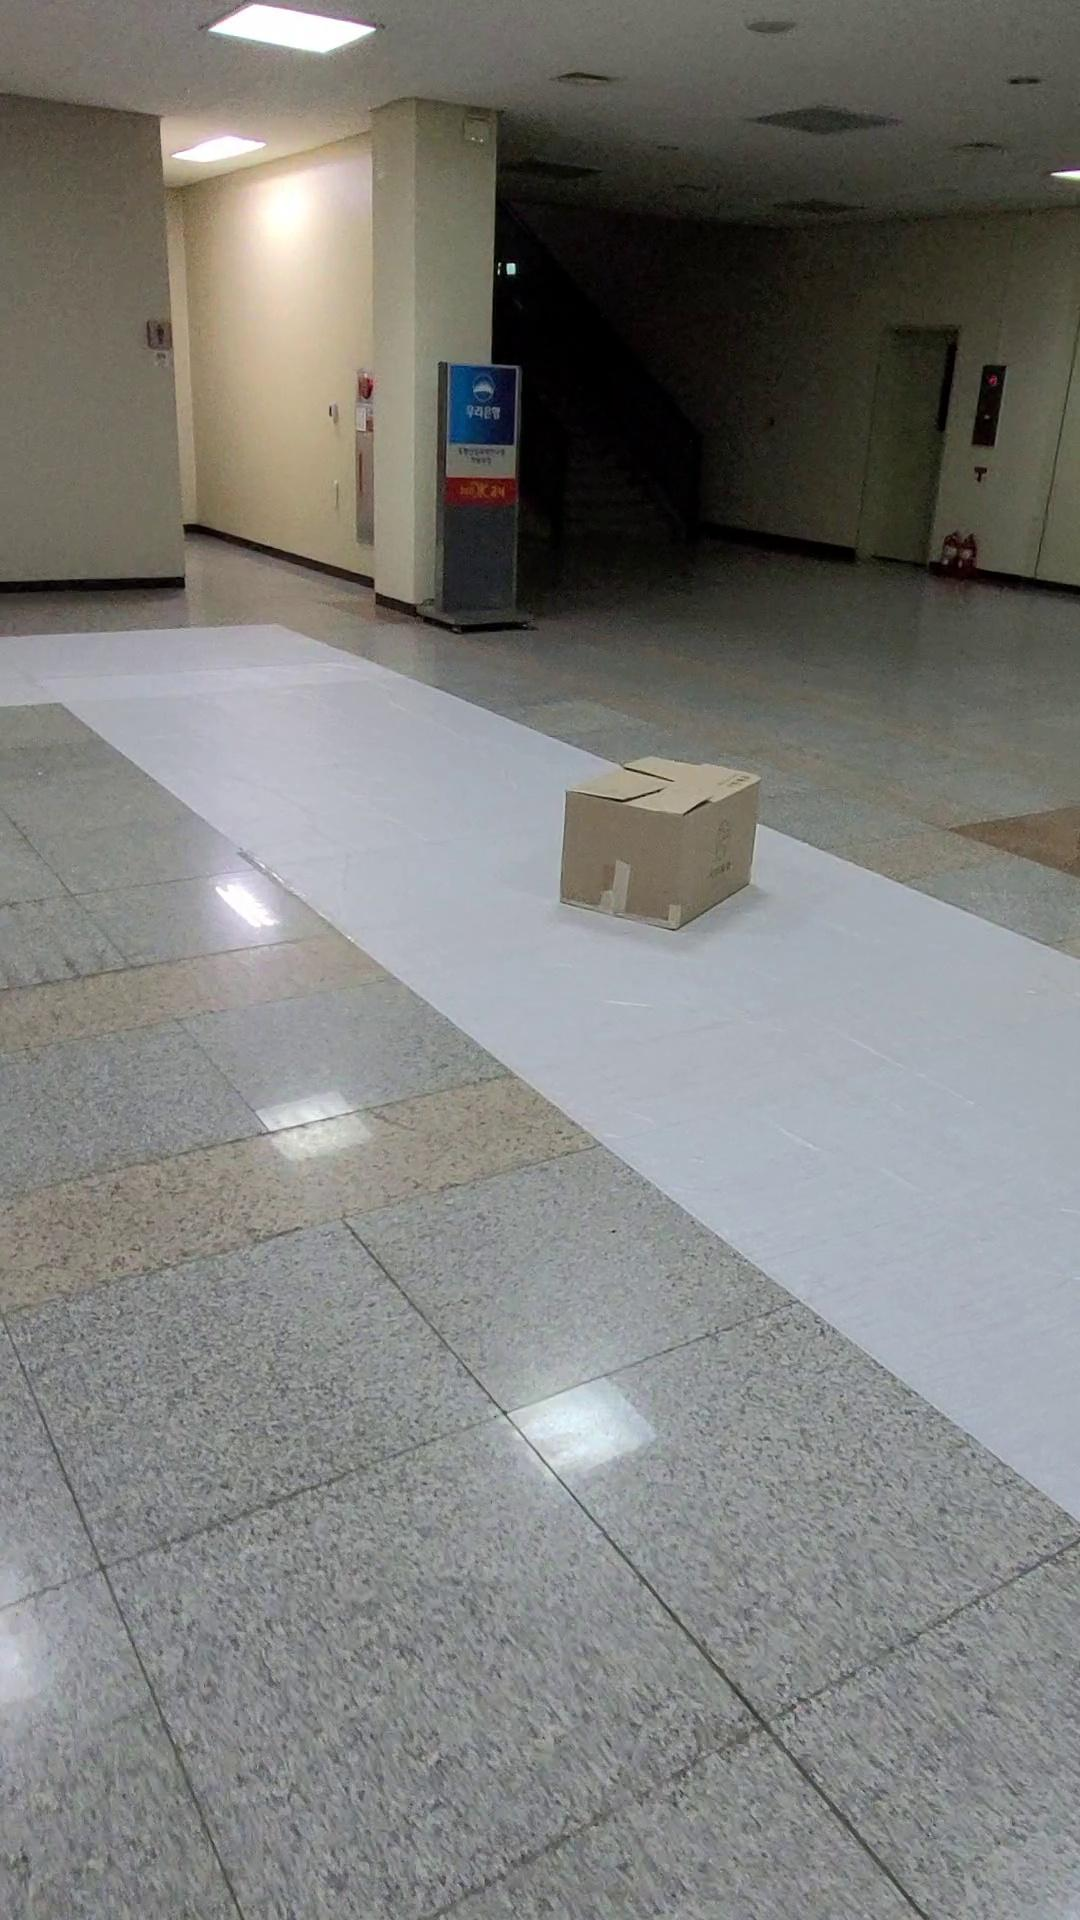Box: (496, 709, 790, 932)
